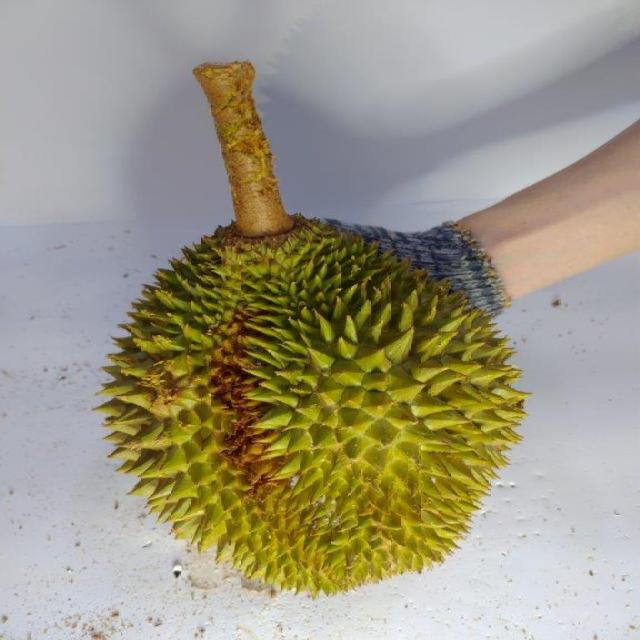defective: (100, 214, 524, 601)
